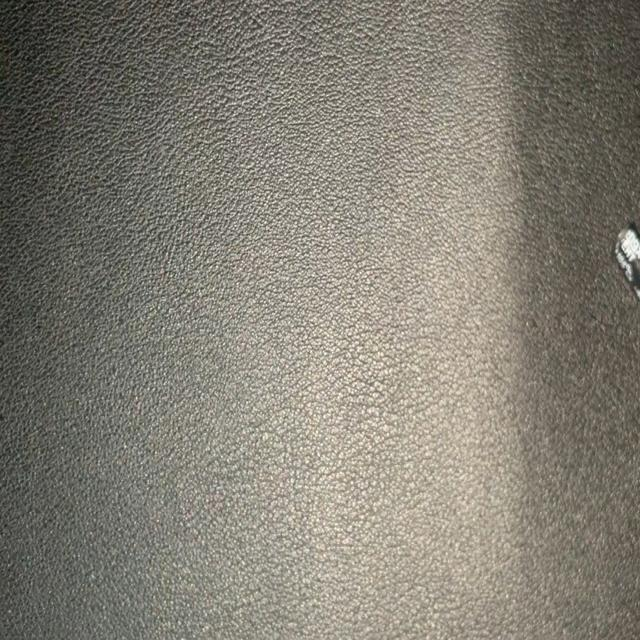capacitor: (612, 218, 640, 311)
